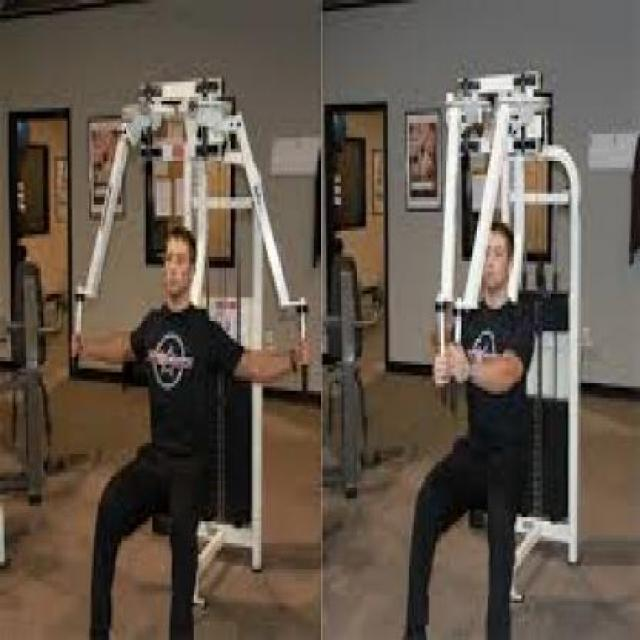chest fly machine: (378, 60, 616, 640)
